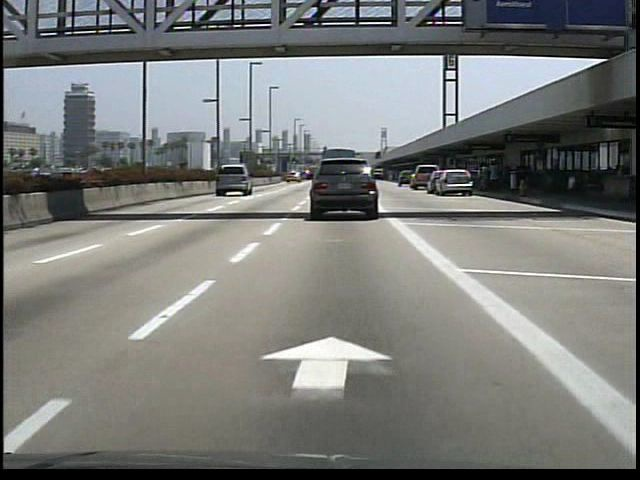person: (486, 157, 504, 195), (475, 162, 489, 196)
